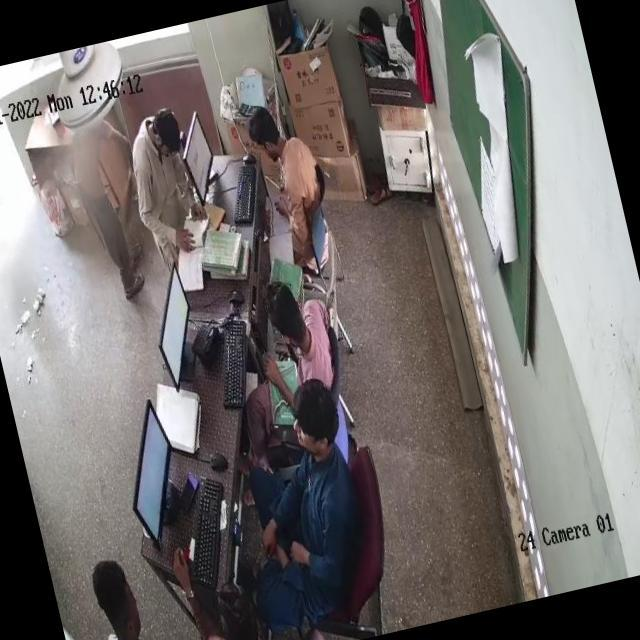person: (229, 373, 388, 631), (71, 113, 148, 304), (119, 102, 208, 266), (248, 103, 323, 264), (254, 272, 334, 384), (81, 551, 180, 640), (178, 558, 270, 640)
